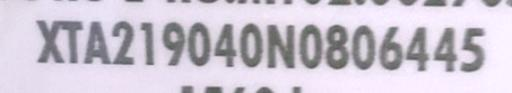letter: (265, 22, 297, 71), (430, 23, 460, 74), (458, 25, 488, 74), (82, 18, 112, 65), (403, 25, 431, 74), (34, 19, 64, 64), (378, 22, 404, 73), (184, 20, 212, 67), (212, 21, 240, 68), (236, 22, 264, 69), (296, 22, 324, 69), (349, 23, 377, 70), (160, 19, 186, 68), (110, 18, 136, 65), (324, 23, 348, 70), (59, 19, 83, 64), (138, 20, 158, 67)
